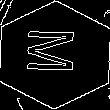M_E: (26, 32, 84, 78)
